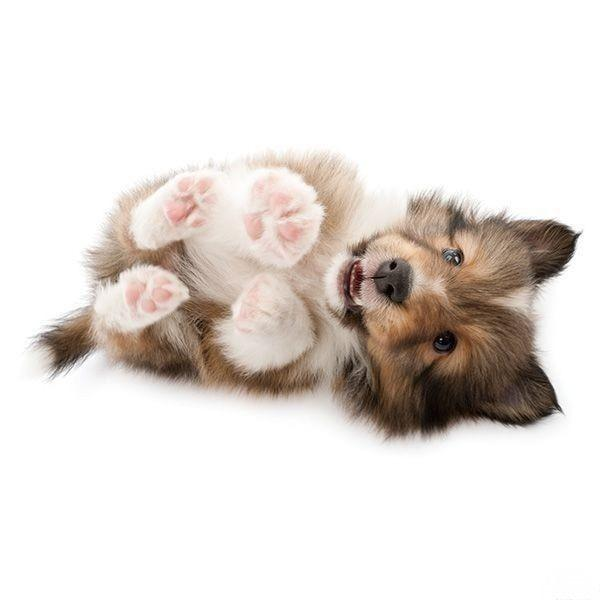puppy-dog: (25, 145, 585, 442)
